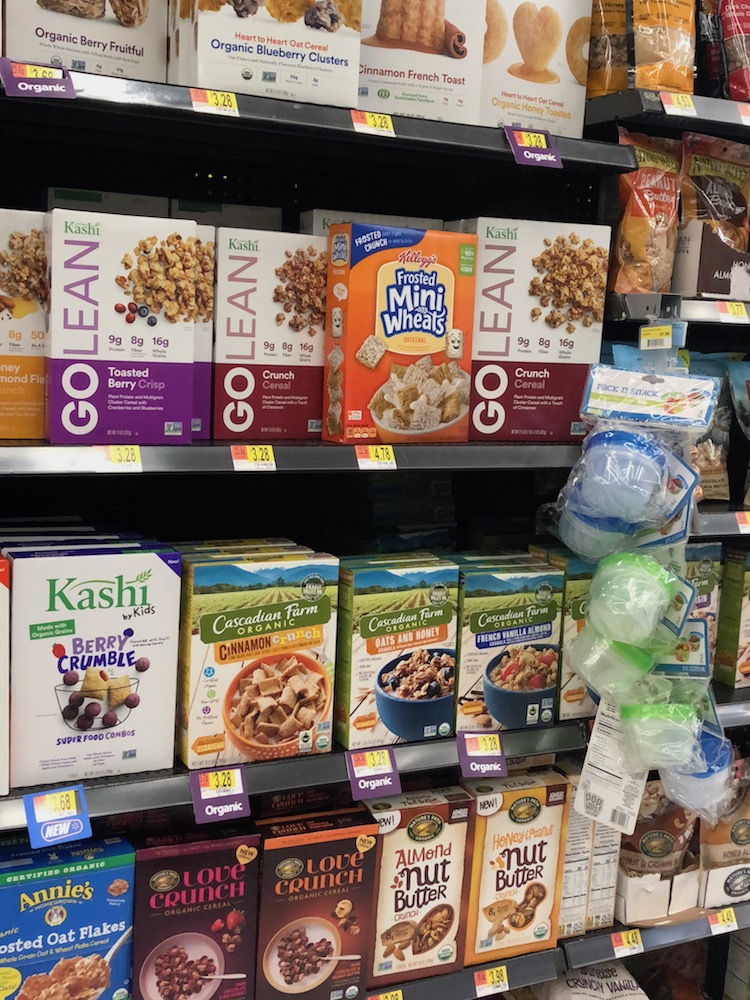Frosted Mini Original -9295869: (333, 231, 473, 442)
